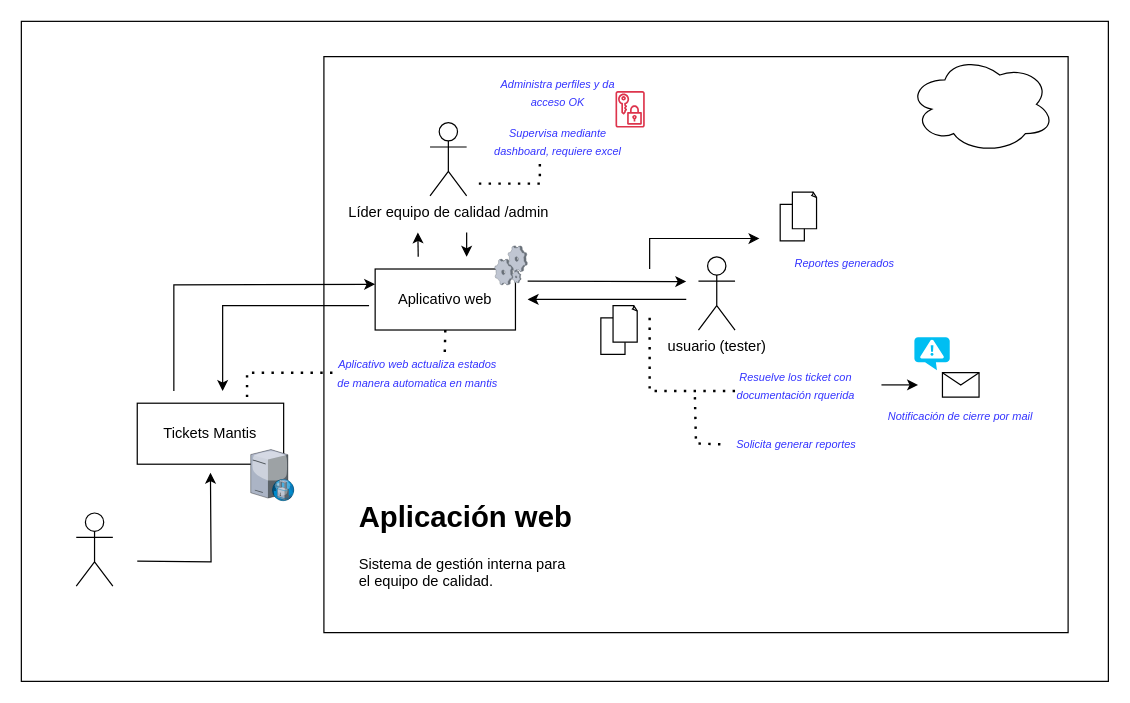
Image size: 1130x703. Some labels were removed from this diagram. The shapes that lost their labels are listed below. From the top down, each one's box as (x1, y1, x2, y2) in pixels, then its label:
(907, 54, 1055, 153): Servicio Cloud
(75, 512, 113, 586): Solicitante
